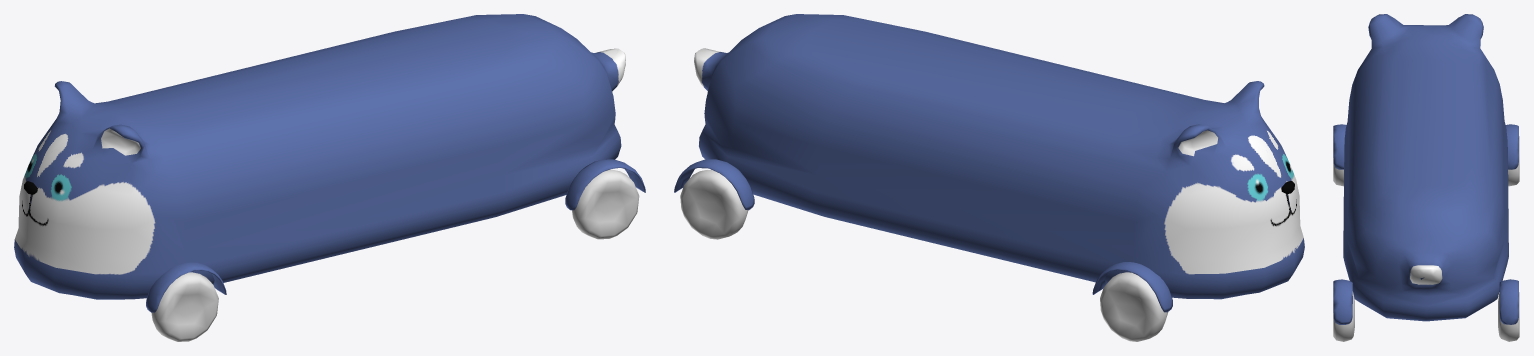
File: dogcarbig.fbx
The picture shows the model from 3 angles, left to right: view 1: azimuth 30°, elevation 25°; view 2: azimuth 150°, elevation 25°; view 3: azimuth 270°, elevation 25°; orthographic projection. The views are drawn at different scales.
Parts seen in each view (by area): view 1: 低模; view 2: 低模; view 3: 低模.
Part boxes in pixels (left/top/right/bottom): 低模: left=14, top=14, right=645, bottom=341; 低模: left=674, top=14, right=1304, bottom=341; 低模: left=1333, top=14, right=1519, bottom=341.
Bounding box in the file's own units: 300 × 97.74 × 107.
